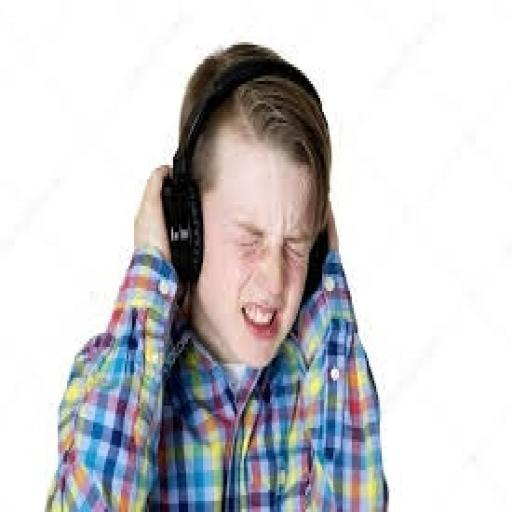listening_to_music: (41, 39, 391, 509)
